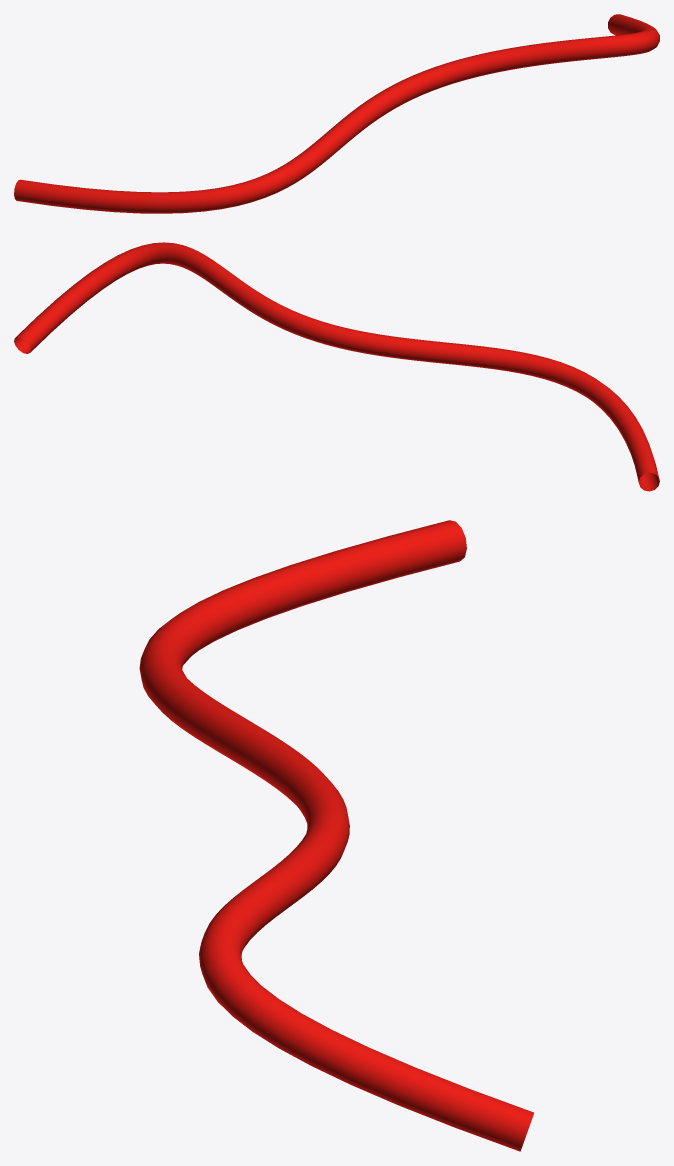
The model's file is redwire.fbx.
3 views of the same model, one above another, from view 1: azimuth 30°, elevation 25°; view 2: azimuth 150°, elevation 25°; view 3: azimuth 270°, elevation 25° (orthographic). The views are drawn at different scales.
Visible parts, largest first — view 1: RedWire; view 2: RedWire; view 3: RedWire.
Boxes of the visible parts, x1,y1,x2,y2 form: RedWire: (14, 14, 659, 213); RedWire: (14, 242, 659, 491); RedWire: (139, 520, 533, 1151).
Size of the model in its own units: 58.47 by 6.71 by 15.99.
